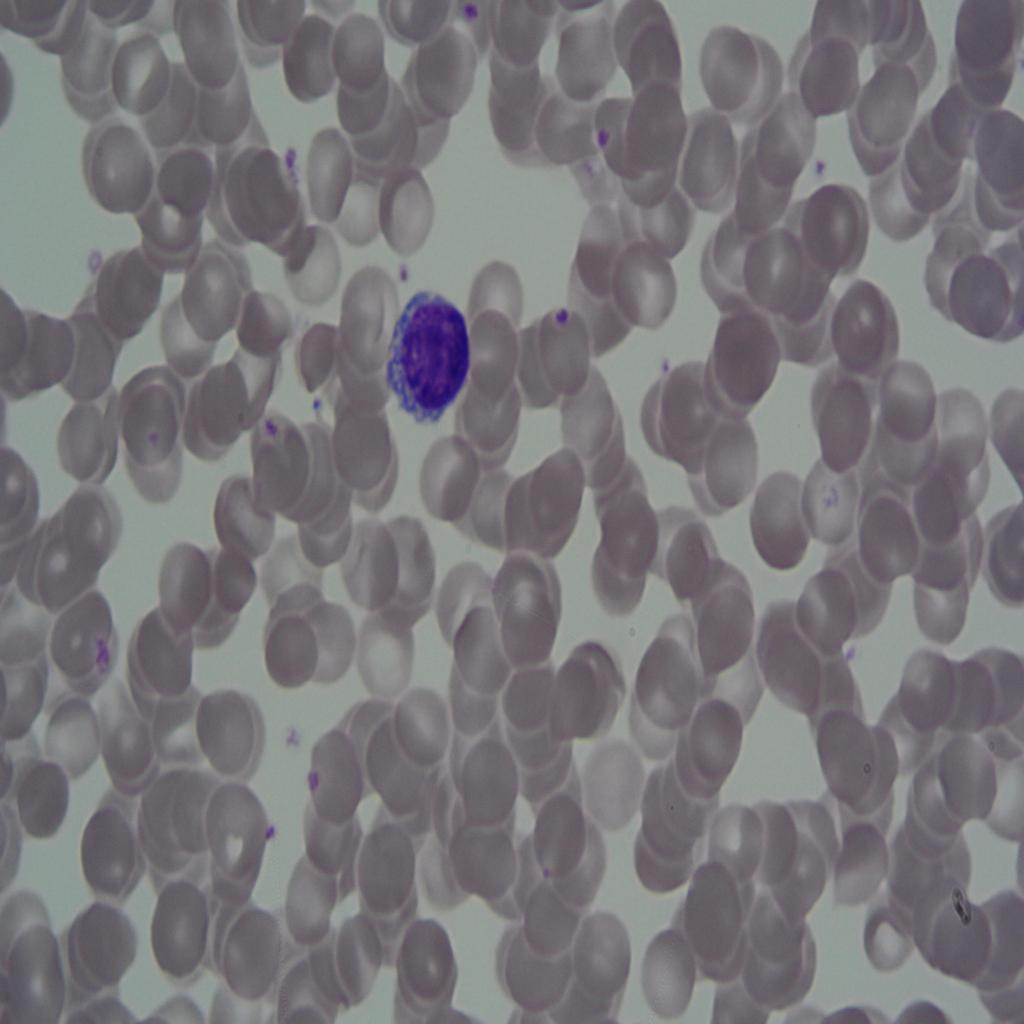Myeoblast: (373, 280, 472, 446)
Platelet: (254, 799, 281, 861), (84, 628, 119, 674), (586, 116, 617, 166), (645, 344, 675, 395), (302, 750, 329, 801), (802, 143, 831, 183), (81, 246, 107, 287), (550, 290, 572, 336), (280, 130, 300, 168), (395, 252, 416, 286), (282, 717, 302, 750)
